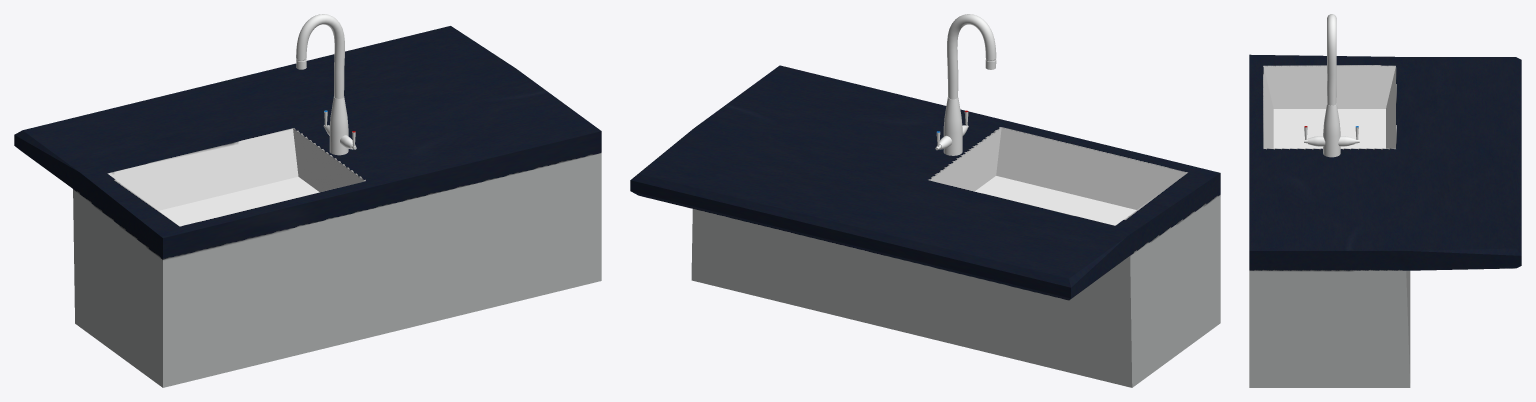
File: Table_2_Sink_Textures.fbx
3 views of the same model, side by side, from view 1: azimuth 30°, elevation 25°; view 2: azimuth 150°, elevation 25°; view 3: azimuth 270°, elevation 25° (orthographic). The views are drawn at different scales.
Parts seen in each view (by area): view 1: pCube4, polySurface13, polySurface8; view 2: pCube4, polySurface13, polySurface8; view 3: pCube4, polySurface13, polySurface8.
Part boxes in pixels (left/top/right/bottom): pCube4: left=14, top=26, right=601, bottom=387; polySurface13: left=296, top=14, right=344, bottom=98; polySurface8: left=329, top=96, right=348, bottom=155; pCube4: left=630, top=65, right=1220, bottom=387; polySurface13: left=947, top=14, right=996, bottom=99; polySurface8: left=943, top=97, right=962, bottom=155; pCube4: left=1249, top=54, right=1521, bottom=387; polySurface13: left=1327, top=14, right=1336, bottom=105; polySurface8: left=1323, top=103, right=1340, bottom=157.
Size of the model in its own units: 30.15 by 19.1 by 17.71.
